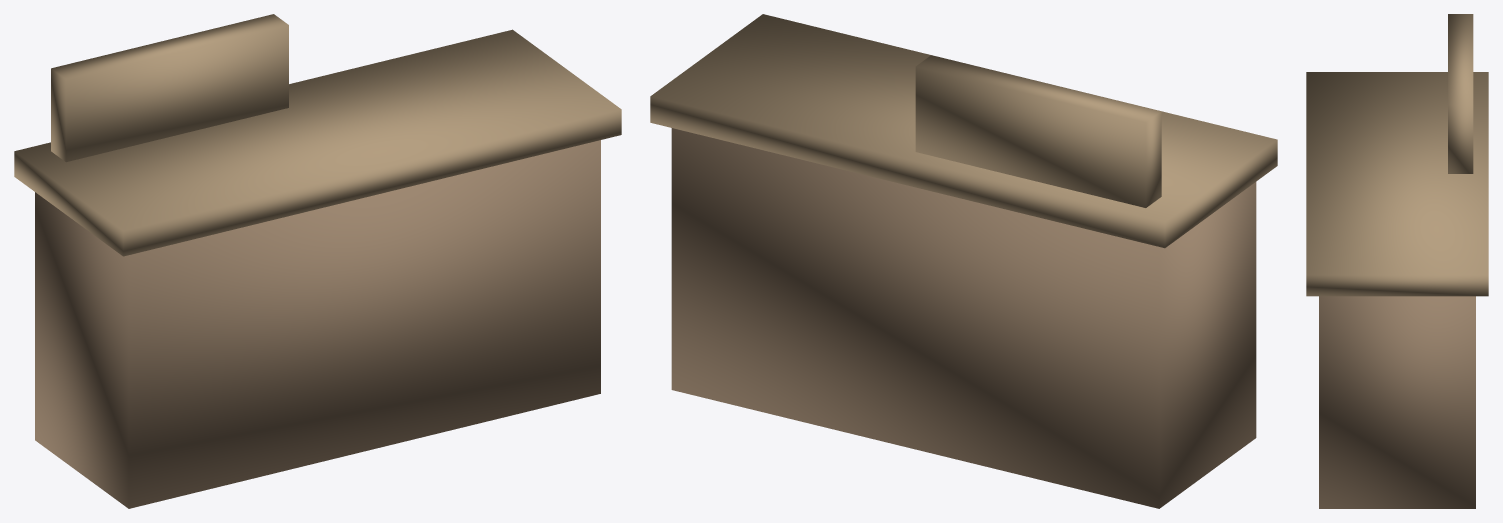
The model's file is reception_desk__tall.glb.
The picture shows the model from 3 angles, left to right: view 1: azimuth 30°, elevation 25°; view 2: azimuth 150°, elevation 25°; view 3: azimuth 270°, elevation 25°; orthographic projection. The views are drawn at different scales.
Visible parts, largest first — view 1: world; view 2: world; view 3: world.
Part boxes in pixels (left/top/right/bottom): world: left=14, top=14, right=621, bottom=508; world: left=650, top=14, right=1277, bottom=508; world: left=1306, top=14, right=1488, bottom=508.
Bounding box in the file's own units: 1.9 × 1.35 × 0.72.
